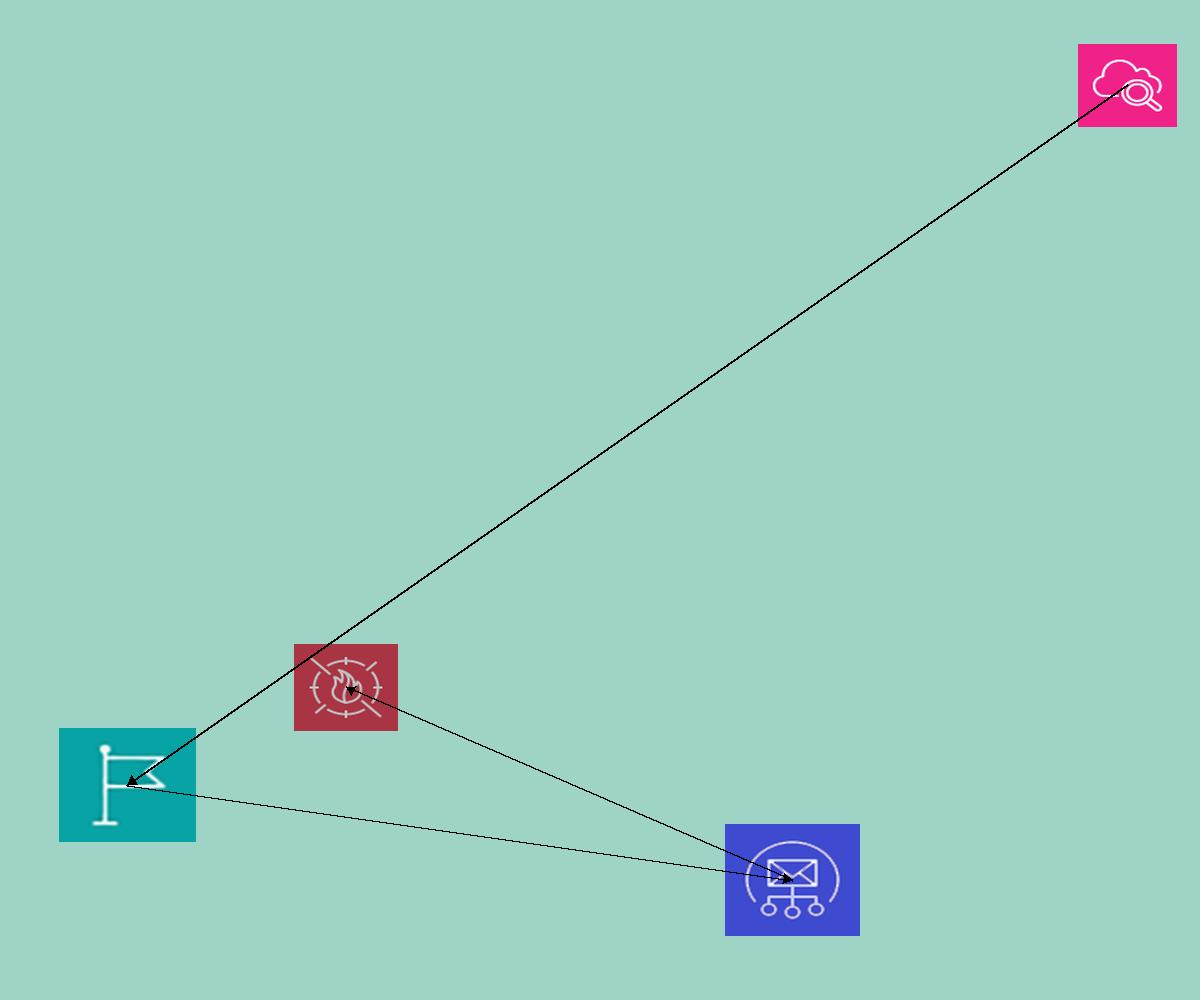AWS-CloudWatch: (1078, 44, 1177, 127)
AWS-Region: (59, 728, 196, 842)
AWS-Simple-Email-Service: (725, 824, 860, 936)
AWS-WAF: (294, 644, 398, 731)
